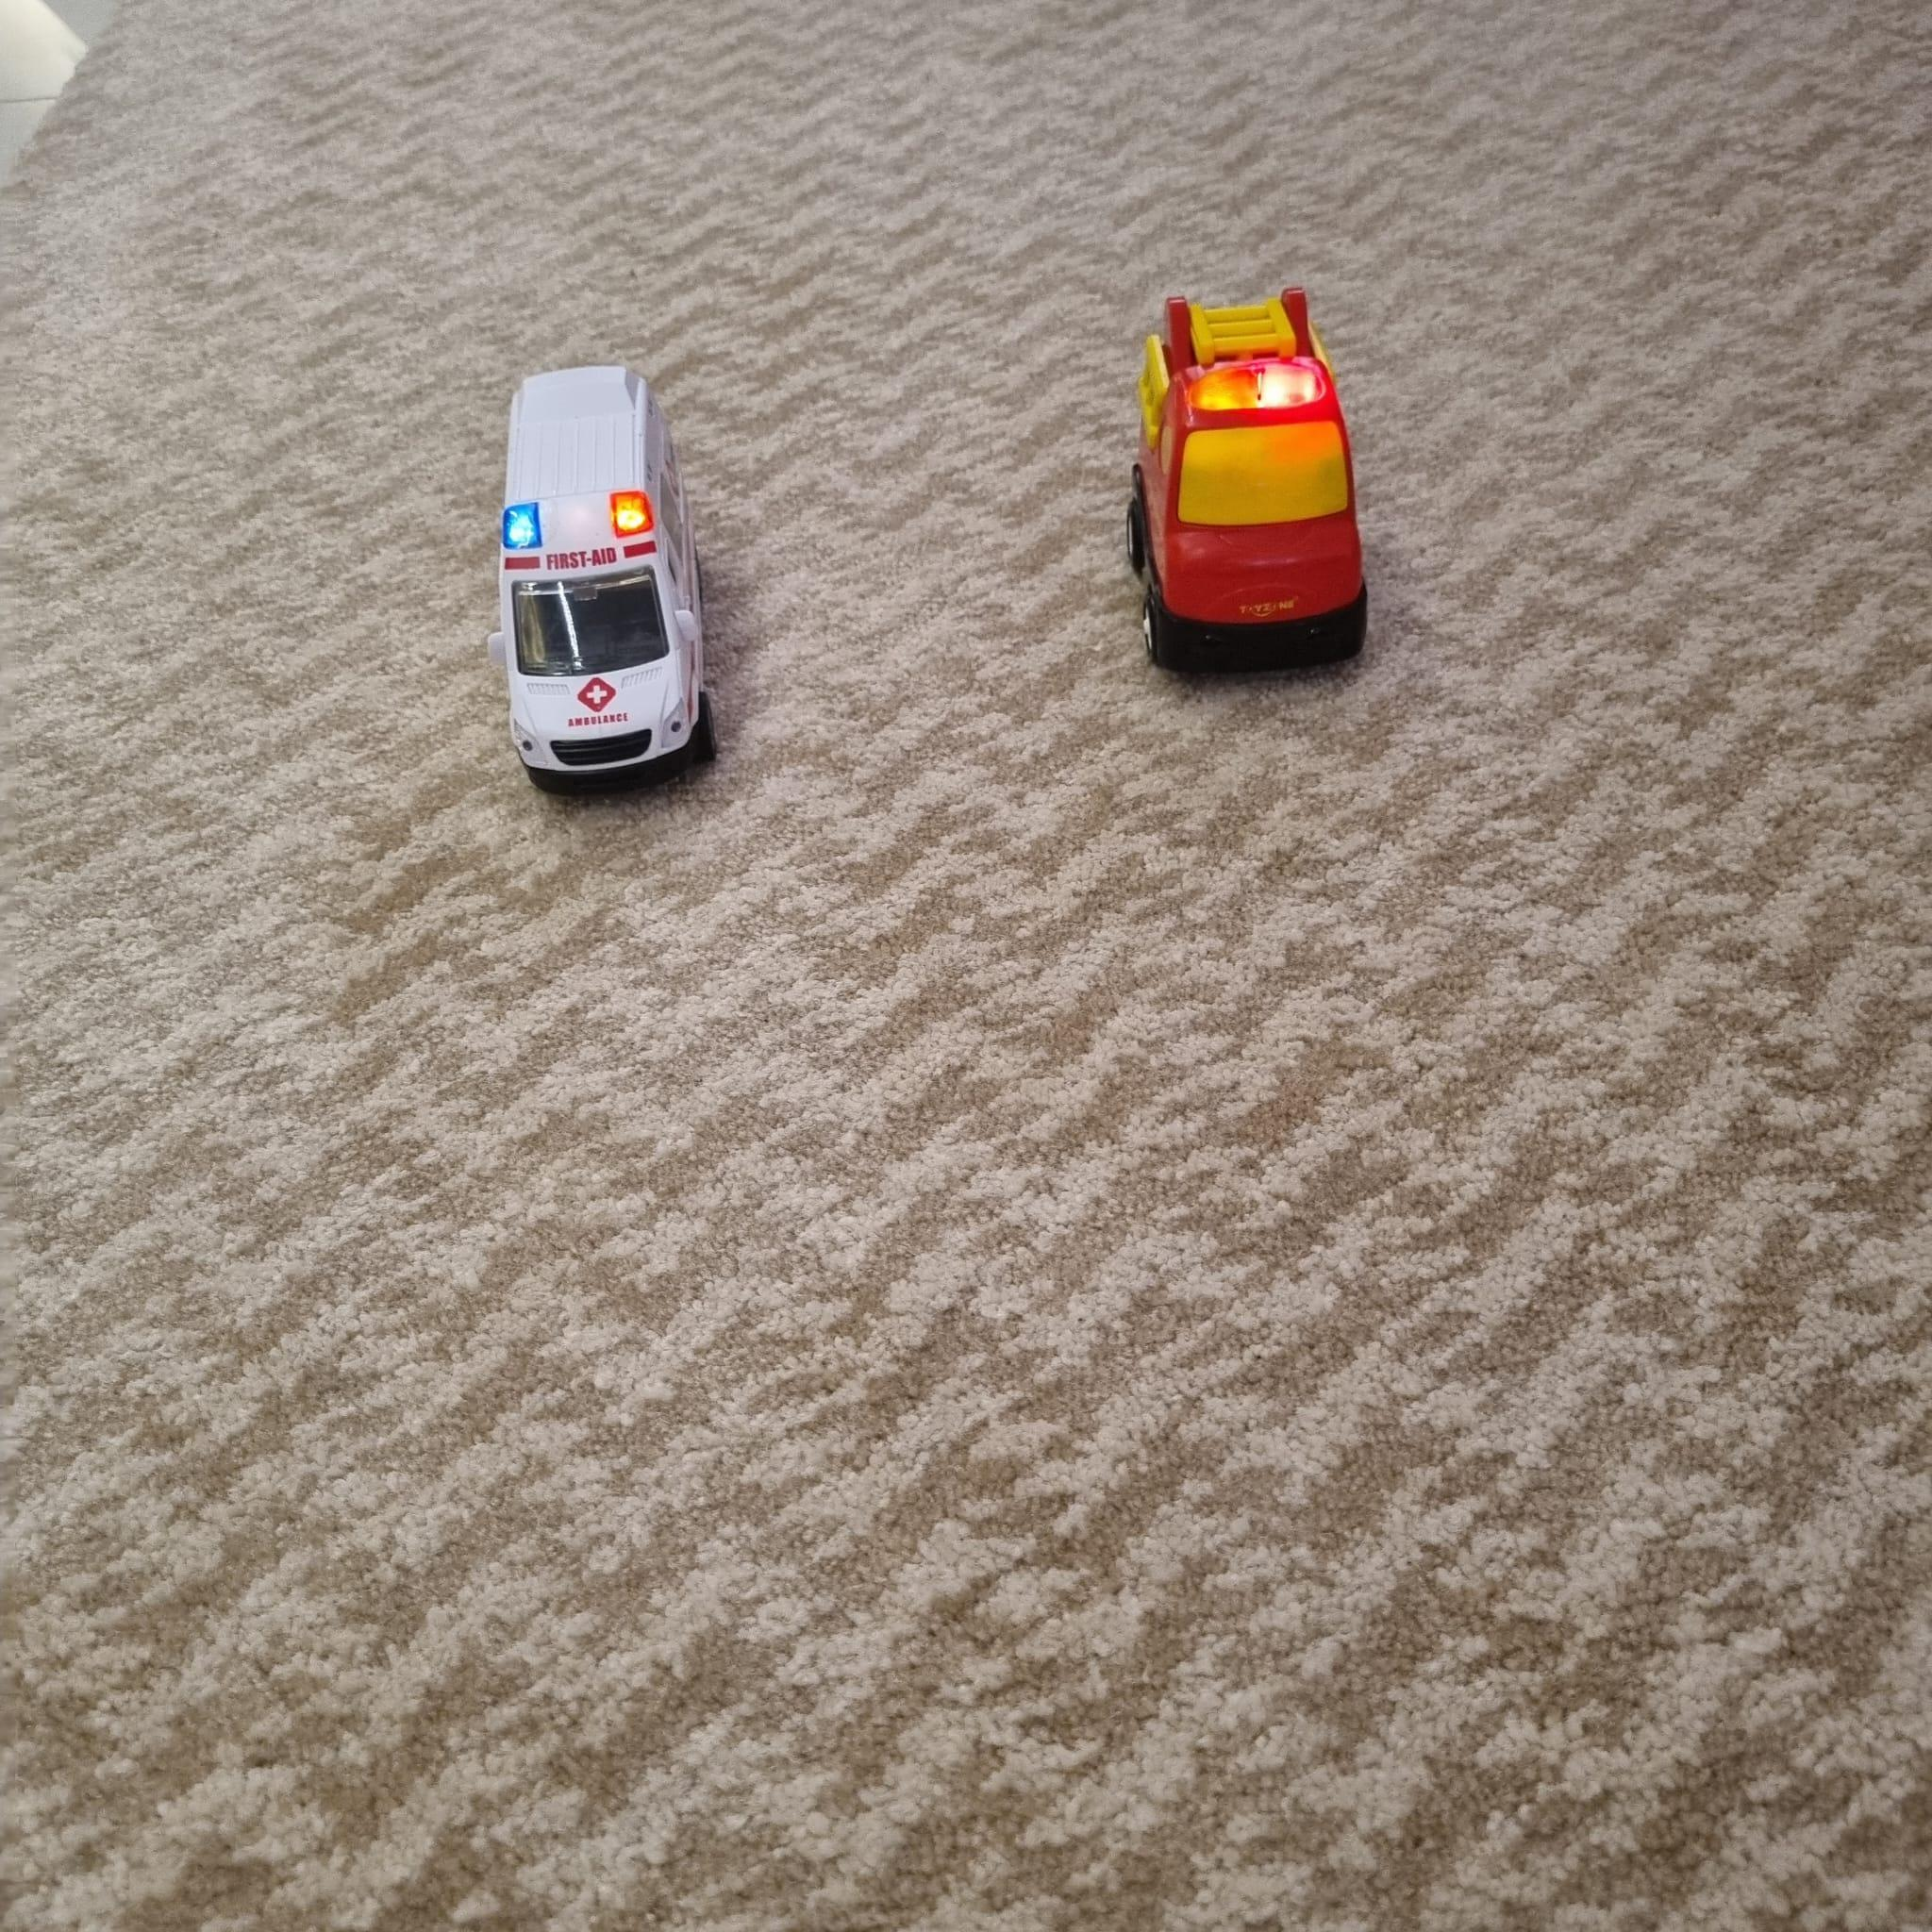ambulance_on: (496, 359, 724, 794)
firetruck_on: (1128, 275, 1369, 677)
